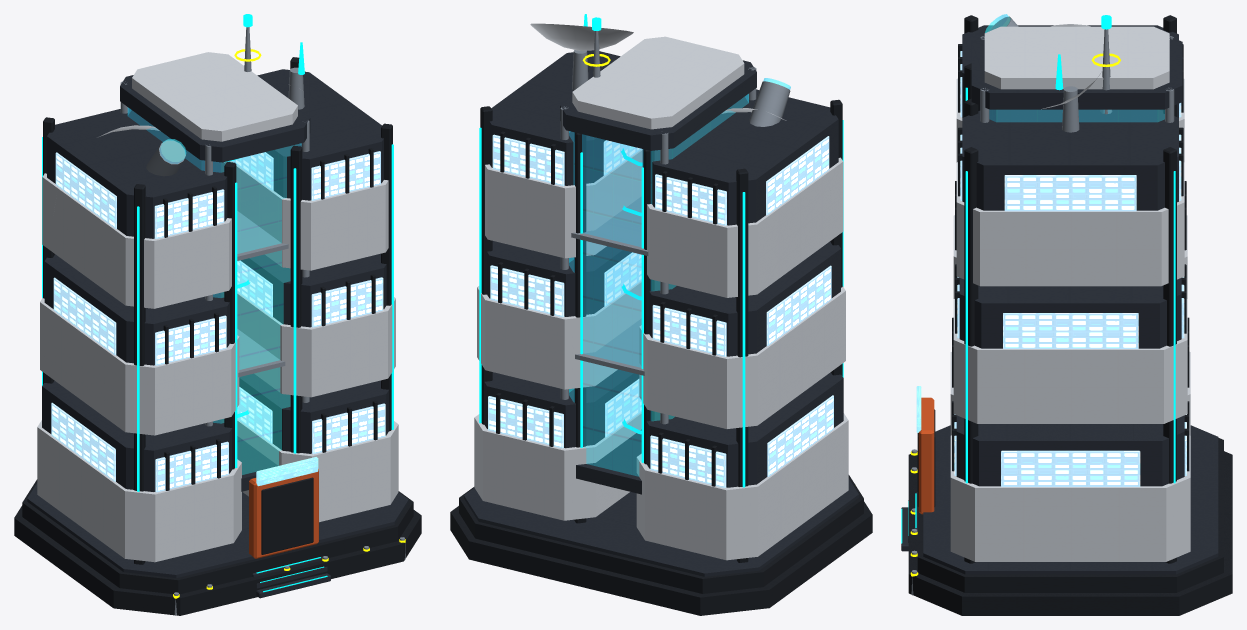
File: bldg_08_r1_03.glb
3 renders of one model, left to right at view 1: azimuth 30°, elevation 25°; view 2: azimuth 150°, elevation 25°; view 3: azimuth 270°, elevation 25°, orthographic. The views are drawn at different scales.
Visible parts, largest first — view 1: Bldg08_C03_aero_white, Bldg08_C03_carbon_slate, Bldg08_C03_gunmetal, Bldg08_C03_window_lit, Bldg08_C03_glass_cyan, Bldg08_C03_steel_machined, Bldg08_C03_led_cyan, Bldg08_C03_accent_orange, Bldg08_C03_marquee; view 2: Bldg08_C03_aero_white, Bldg08_C03_carbon_slate, Bldg08_C03_gunmetal, Bldg08_C03_window_lit, Bldg08_C03_glass_cyan, Bldg08_C03_steel_machined, Bldg08_C03_led_cyan; view 3: Bldg08_C03_aero_white, Bldg08_C03_carbon_slate, Bldg08_C03_gunmetal, Bldg08_C03_window_lit, Bldg08_C03_led_cyan, Bldg08_C03_glass_cyan, Bldg08_C03_steel_machined, Bldg08_C03_accent_orange.
Part boxes in pixels (bbox=[...]): Bldg08_C03_aero_white: bbox=[37, 52, 398, 562]; Bldg08_C03_carbon_slate: bbox=[27, 69, 408, 598]; Bldg08_C03_gunmetal: bbox=[14, 57, 421, 615]; Bldg08_C03_window_lit: bbox=[51, 151, 385, 492]; Bldg08_C03_glass_cyan: bbox=[127, 107, 301, 474]; Bldg08_C03_steel_machined: bbox=[120, 27, 405, 615]; Bldg08_C03_led_cyan: bbox=[42, 14, 393, 592]; Bldg08_C03_accent_orange: bbox=[249, 469, 318, 558]; Bldg08_C03_marquee: bbox=[256, 457, 318, 486]; Bldg08_C03_aero_white: bbox=[474, 23, 848, 560]; Bldg08_C03_carbon_slate: bbox=[464, 50, 858, 576]; Bldg08_C03_gunmetal: bbox=[450, 99, 872, 615]; Bldg08_C03_window_lit: bbox=[488, 134, 833, 487]; Bldg08_C03_glass_cyan: bbox=[569, 78, 790, 476]; Bldg08_C03_steel_machined: bbox=[560, 31, 790, 424]; Bldg08_C03_led_cyan: bbox=[479, 14, 843, 487]; Bldg08_C03_aero_white: bbox=[950, 24, 1190, 561]; Bldg08_C03_carbon_slate: bbox=[901, 25, 1218, 574]; Bldg08_C03_gunmetal: bbox=[908, 15, 1232, 615]; Bldg08_C03_window_lit: bbox=[954, 51, 1186, 486]; Bldg08_C03_led_cyan: bbox=[901, 15, 1175, 543]; Bldg08_C03_glass_cyan: bbox=[985, 14, 1164, 121]; Bldg08_C03_steel_machined: bbox=[911, 16, 1174, 595]; Bldg08_C03_accent_orange: bbox=[918, 397, 934, 514].
Size of the model in its own units: 12 by 18.42 by 10.23.
10 materials, 10 textured.
